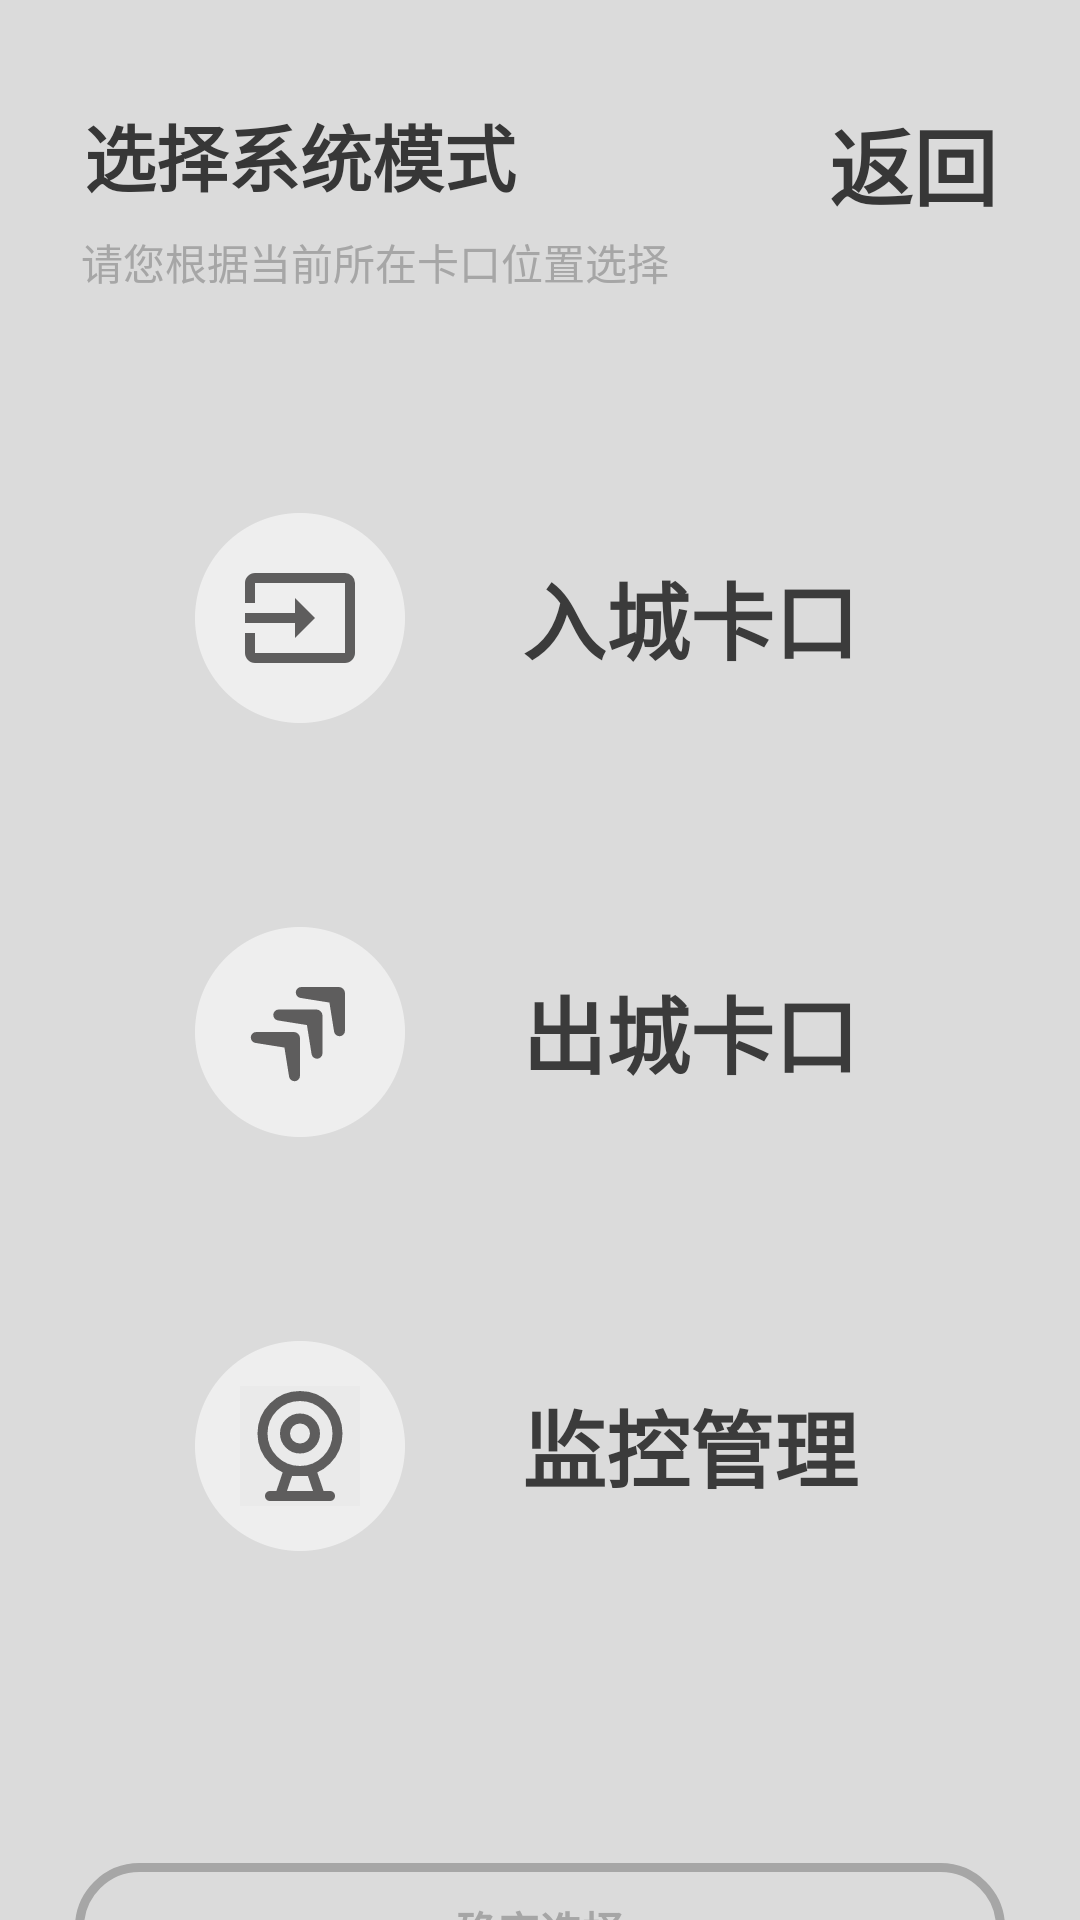

Where icons sit on this 1080w x 1920h app screen, as (x1, y1, x2, y2):
shexiangtou: (195, 1341, 405, 1551)
